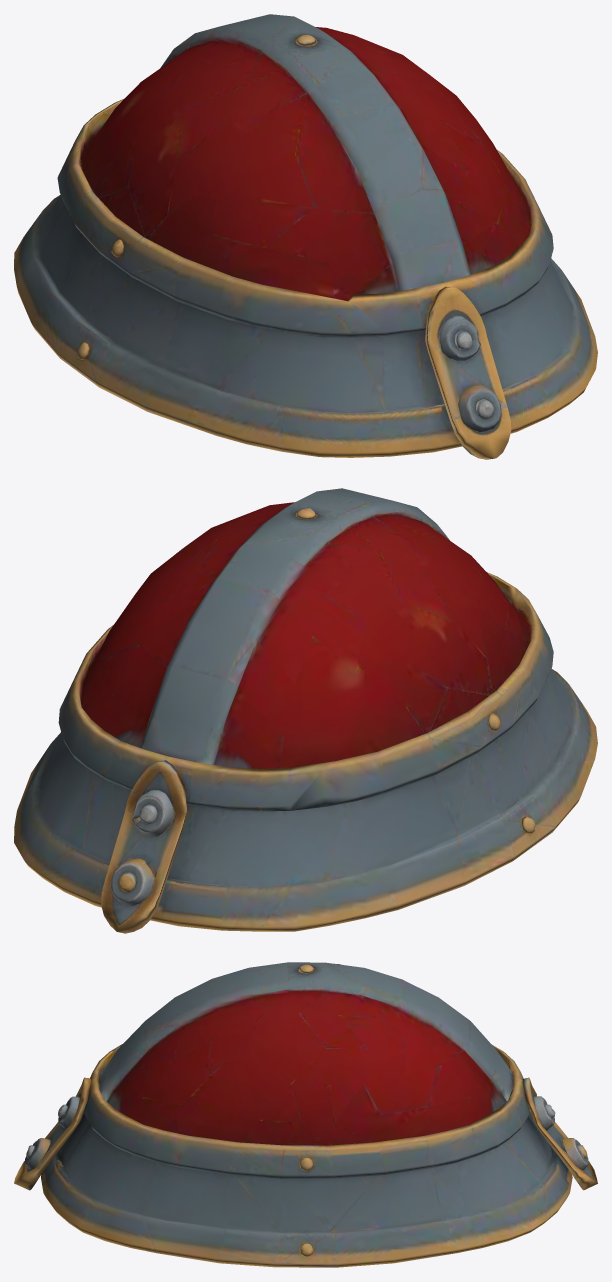
The model's file is plate_shoulder3.glb.
The picture shows the model from 3 angles, top to bottom: view 1: azimuth 30°, elevation 25°; view 2: azimuth 150°, elevation 25°; view 3: azimuth 270°, elevation 25°; orthographic projection. The views are drawn at different scales.
Size of the model in its own units: 0.6675 by 0.4048 by 0.9561.
Materials: 1 (1 with a texture image).
